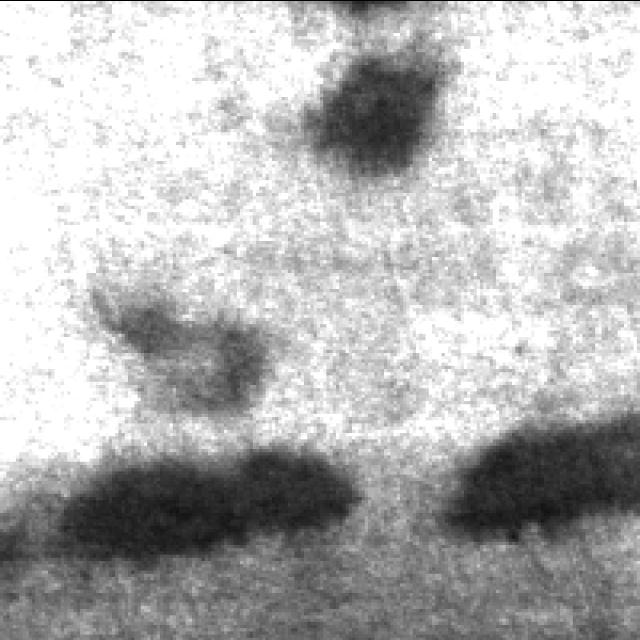patches: (42, 420, 356, 592), (434, 403, 640, 561), (278, 30, 456, 202), (98, 292, 267, 434)
